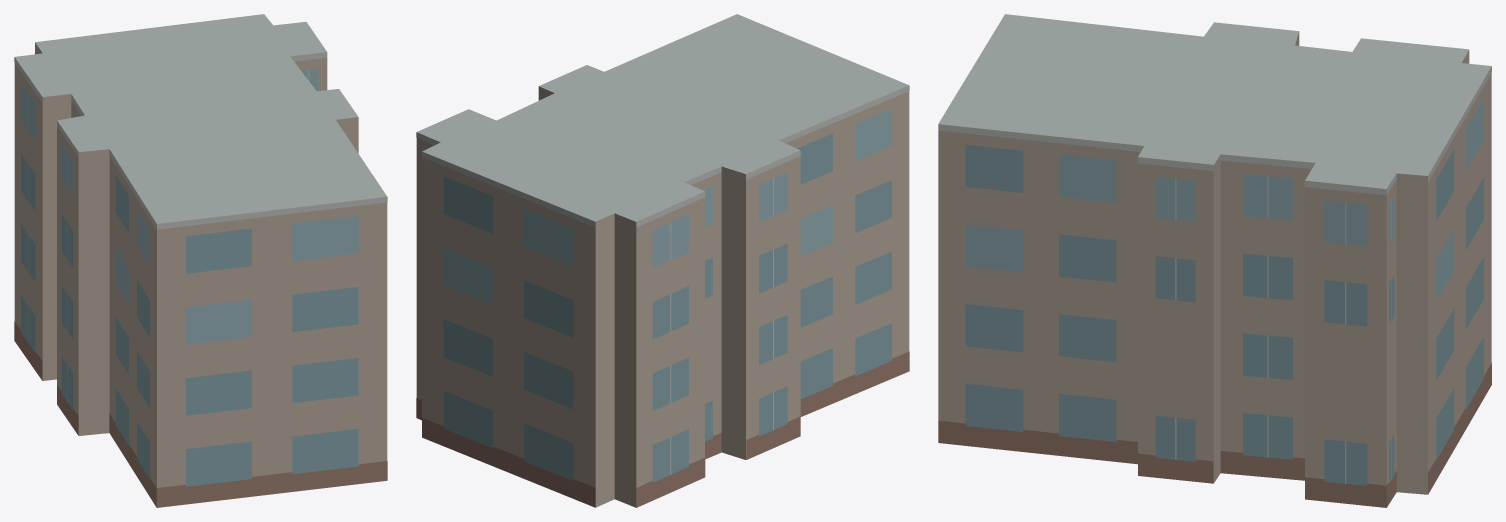
File: survey-upis-32756405.glb
3 views of the same model, side by side, from view 1: azimuth 30°, elevation 25°; view 2: azimuth 150°, elevation 25°; view 3: azimuth 270°, elevation 25° (orthographic). The views are drawn at different scales.
Parts seen in each view (by area): view 1: survey-upis-32756405.tmp; view 2: survey-upis-32756405.tmp; view 3: survey-upis-32756405.tmp.
Part boxes in pixels (x1,y1,x2,y2): survey-upis-32756405.tmp: [14, 14, 387, 507]; survey-upis-32756405.tmp: [416, 14, 909, 507]; survey-upis-32756405.tmp: [938, 14, 1491, 507].
Bounding box in the file's own units: 14.38 × 12.2 × 19.21.
